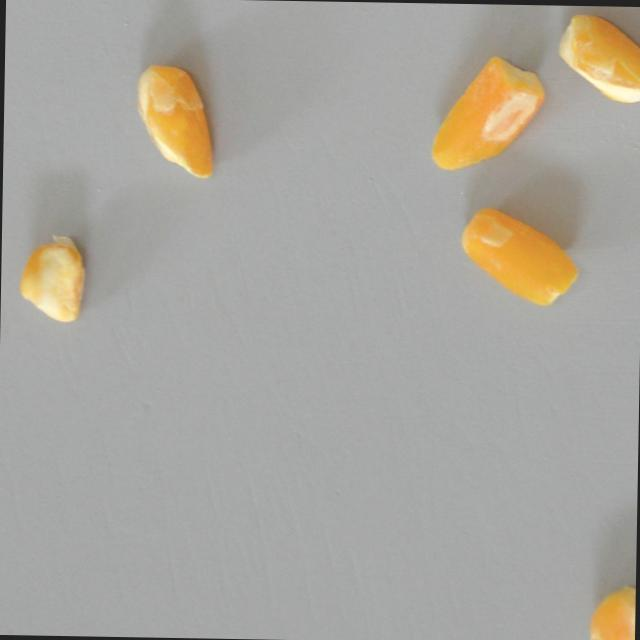pelicula: (428, 51, 554, 177), (118, 56, 231, 182), (453, 200, 579, 311), (0, 227, 112, 326), (550, 4, 640, 102), (557, 578, 636, 640)
